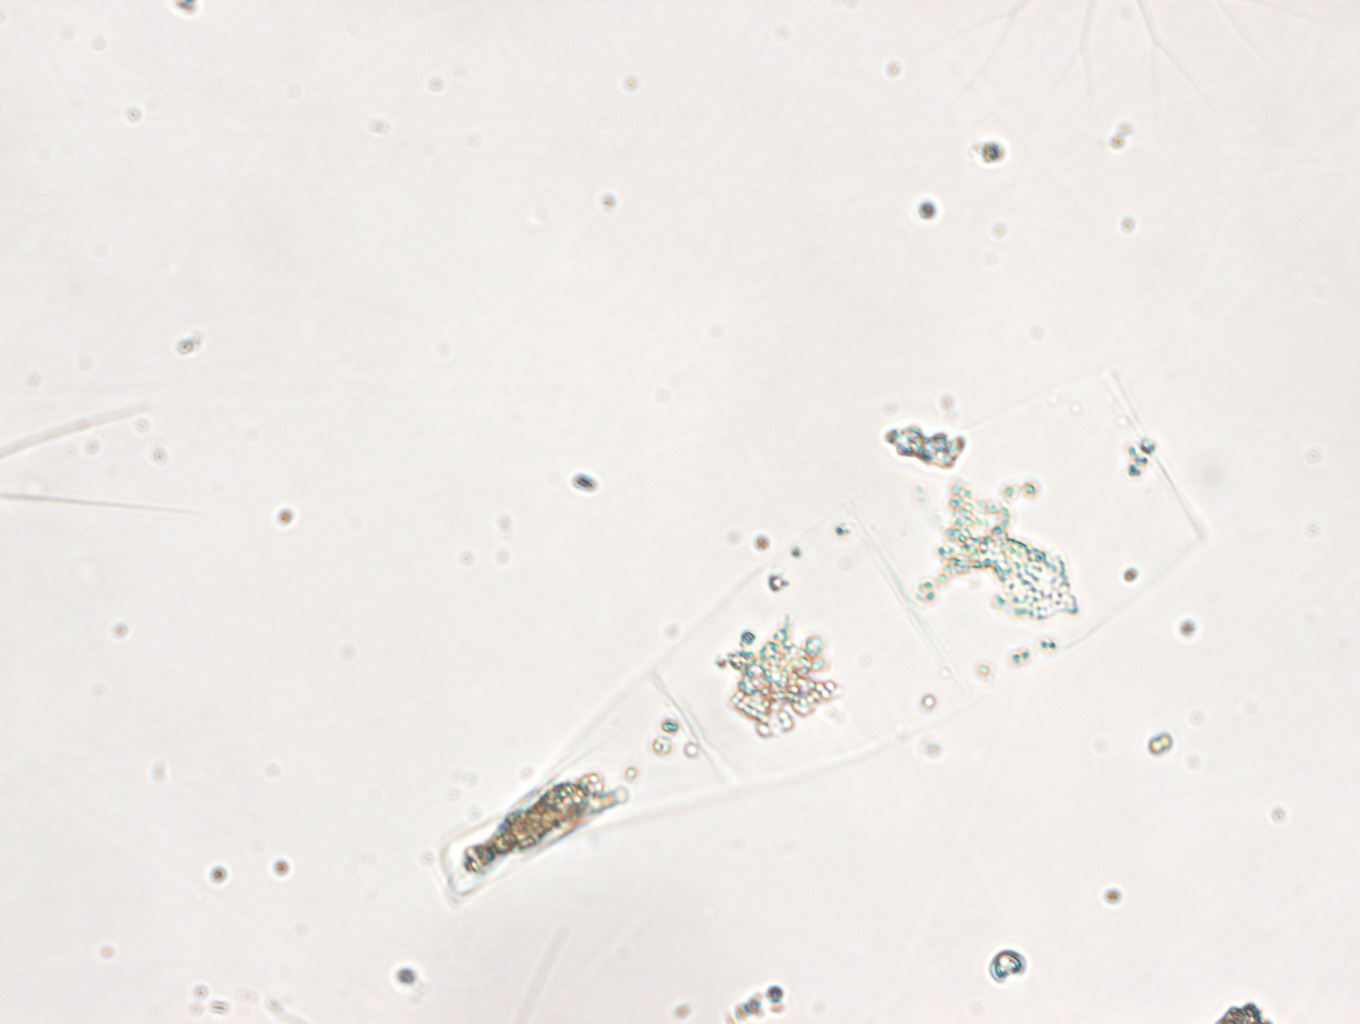helicotheca: (440, 365, 1207, 900)
